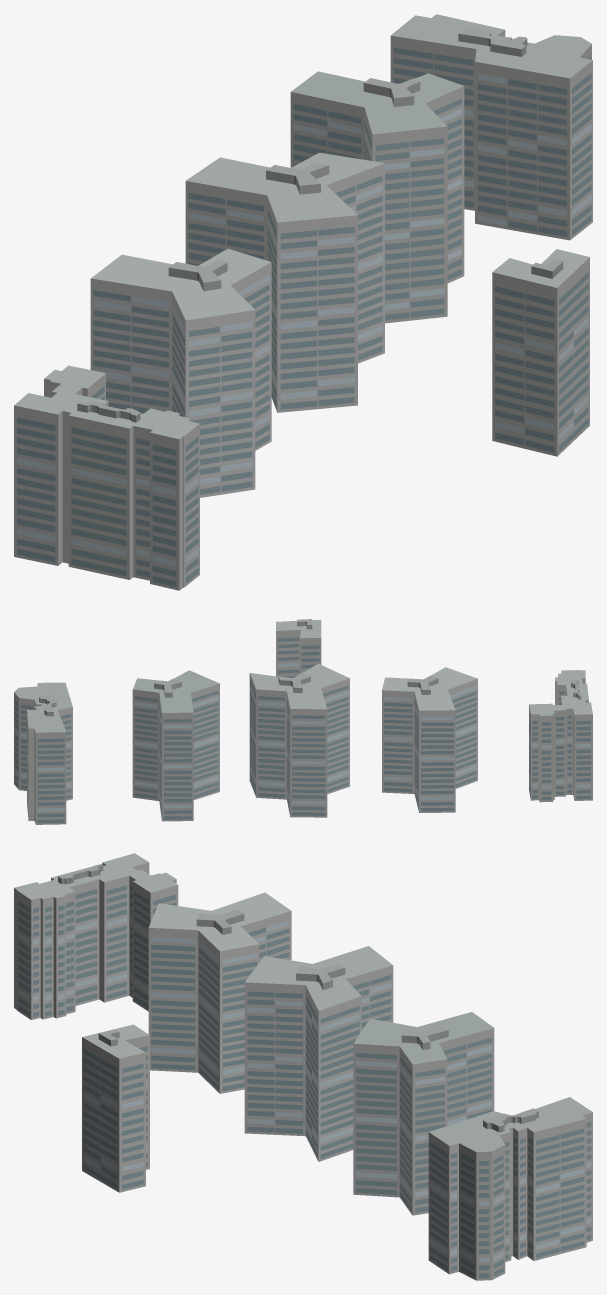
File: apt-a10025822.glb
3 renders of one model, top to bottom at view 1: azimuth 30°, elevation 25°; view 2: azimuth 150°, elevation 25°; view 3: azimuth 270°, elevation 25°, orthographic. The views are drawn at different scales.
Visible parts, largest first — view 1: apt-a10025822; view 2: apt-a10025822; view 3: apt-a10025822.
Boxes of the visible parts, box(x1,y1,x2,y2) form: apt-a10025822: box(14, 14, 592, 590); apt-a10025822: box(14, 619, 592, 824); apt-a10025822: box(14, 853, 592, 1280).
Size of the model in its own units: 225 by 54 by 179.
